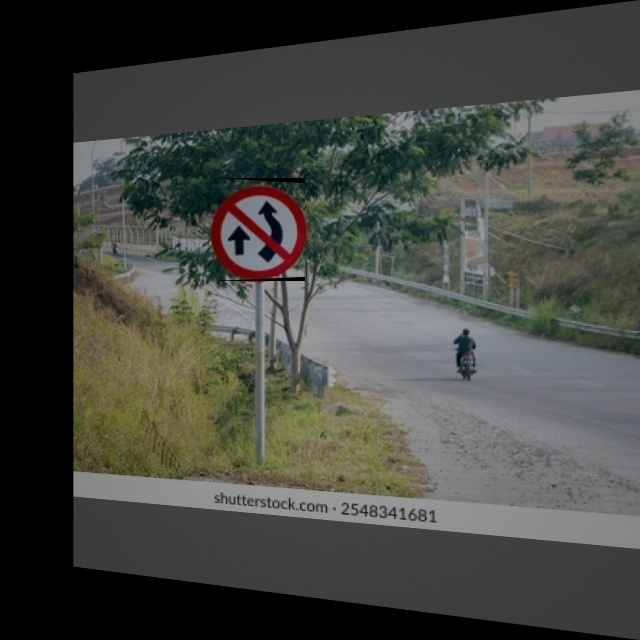Overtaking_Prohibited: (213, 178, 305, 281)
